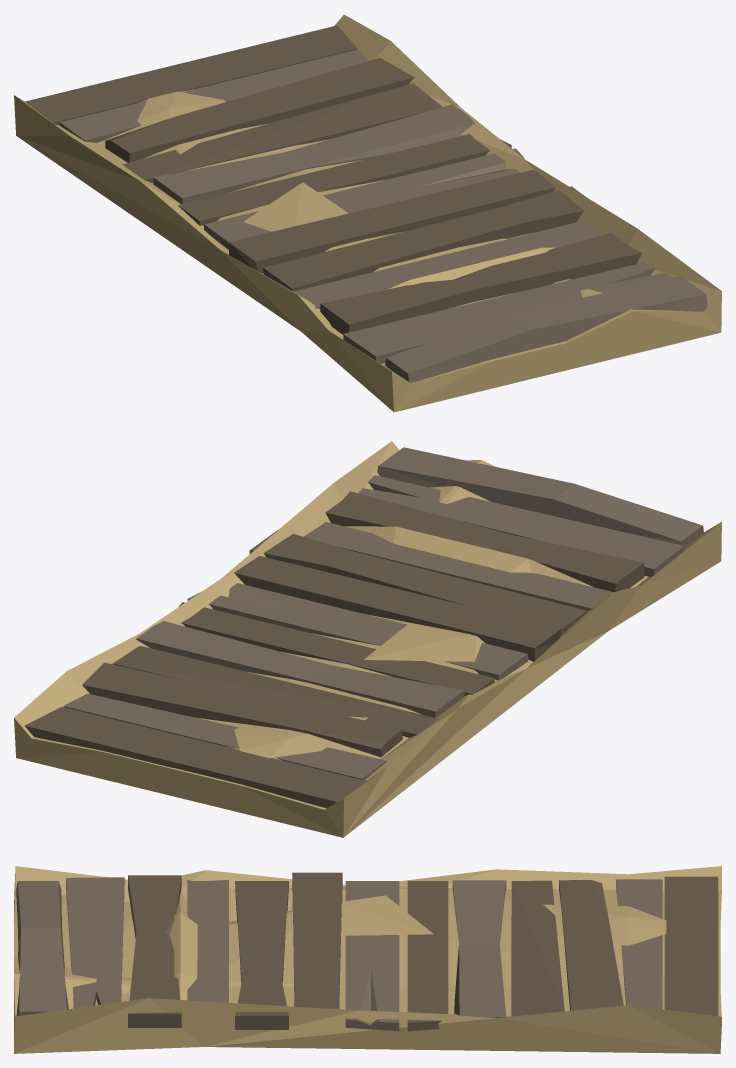
The model's file is Road_Wood_04.glb.
The picture shows the model from 3 angles, top to bottom: view 1: azimuth 30°, elevation 25°; view 2: azimuth 150°, elevation 25°; view 3: azimuth 270°, elevation 25°; orthographic projection. The views are drawn at different scales.
Visible parts, largest first — view 1: Road_wood_4; view 2: Road_wood_4; view 3: Road_wood_4.
Boxes of the visible parts, bbox=[...] form: Road_wood_4: bbox=[14, 14, 721, 412]; Road_wood_4: bbox=[14, 441, 721, 837]; Road_wood_4: bbox=[14, 866, 721, 1053].
Bounding box in the file's own units: 3.02 × 0.4736 × 6.01.
Materials: 1 (1 with a texture image).
